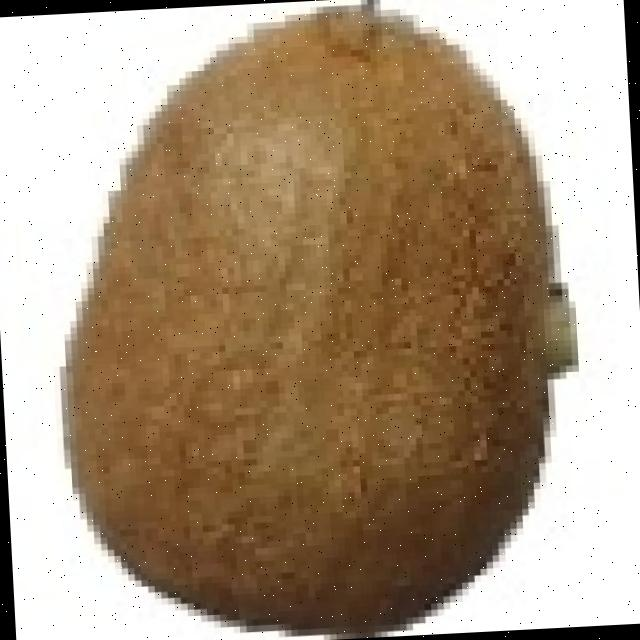kiwi: (54, 4, 559, 619)
